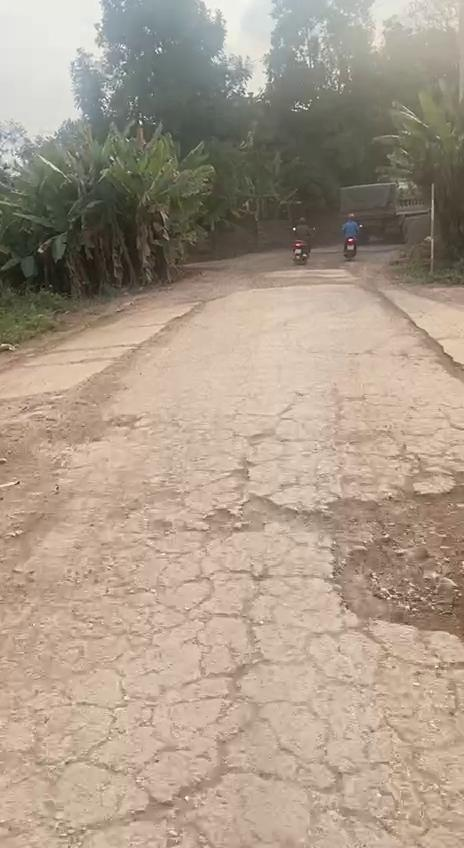pothole: (310, 459, 464, 640), (86, 756, 242, 848), (193, 482, 327, 539)
